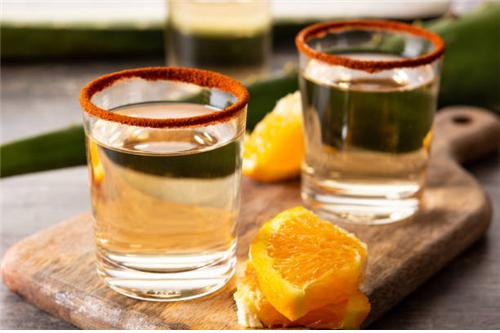alcohol: (77, 66, 246, 302), (293, 21, 445, 223)
